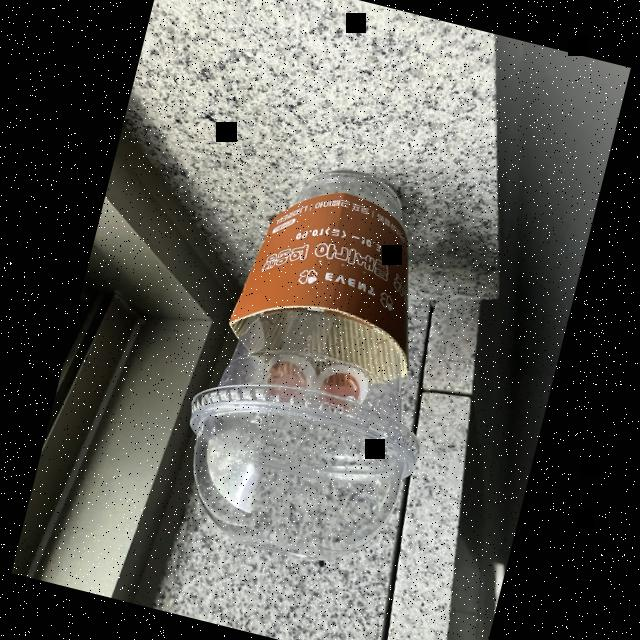plastic_cup: (136, 122, 496, 602)
plastic_cup_lid: (152, 362, 430, 586)
